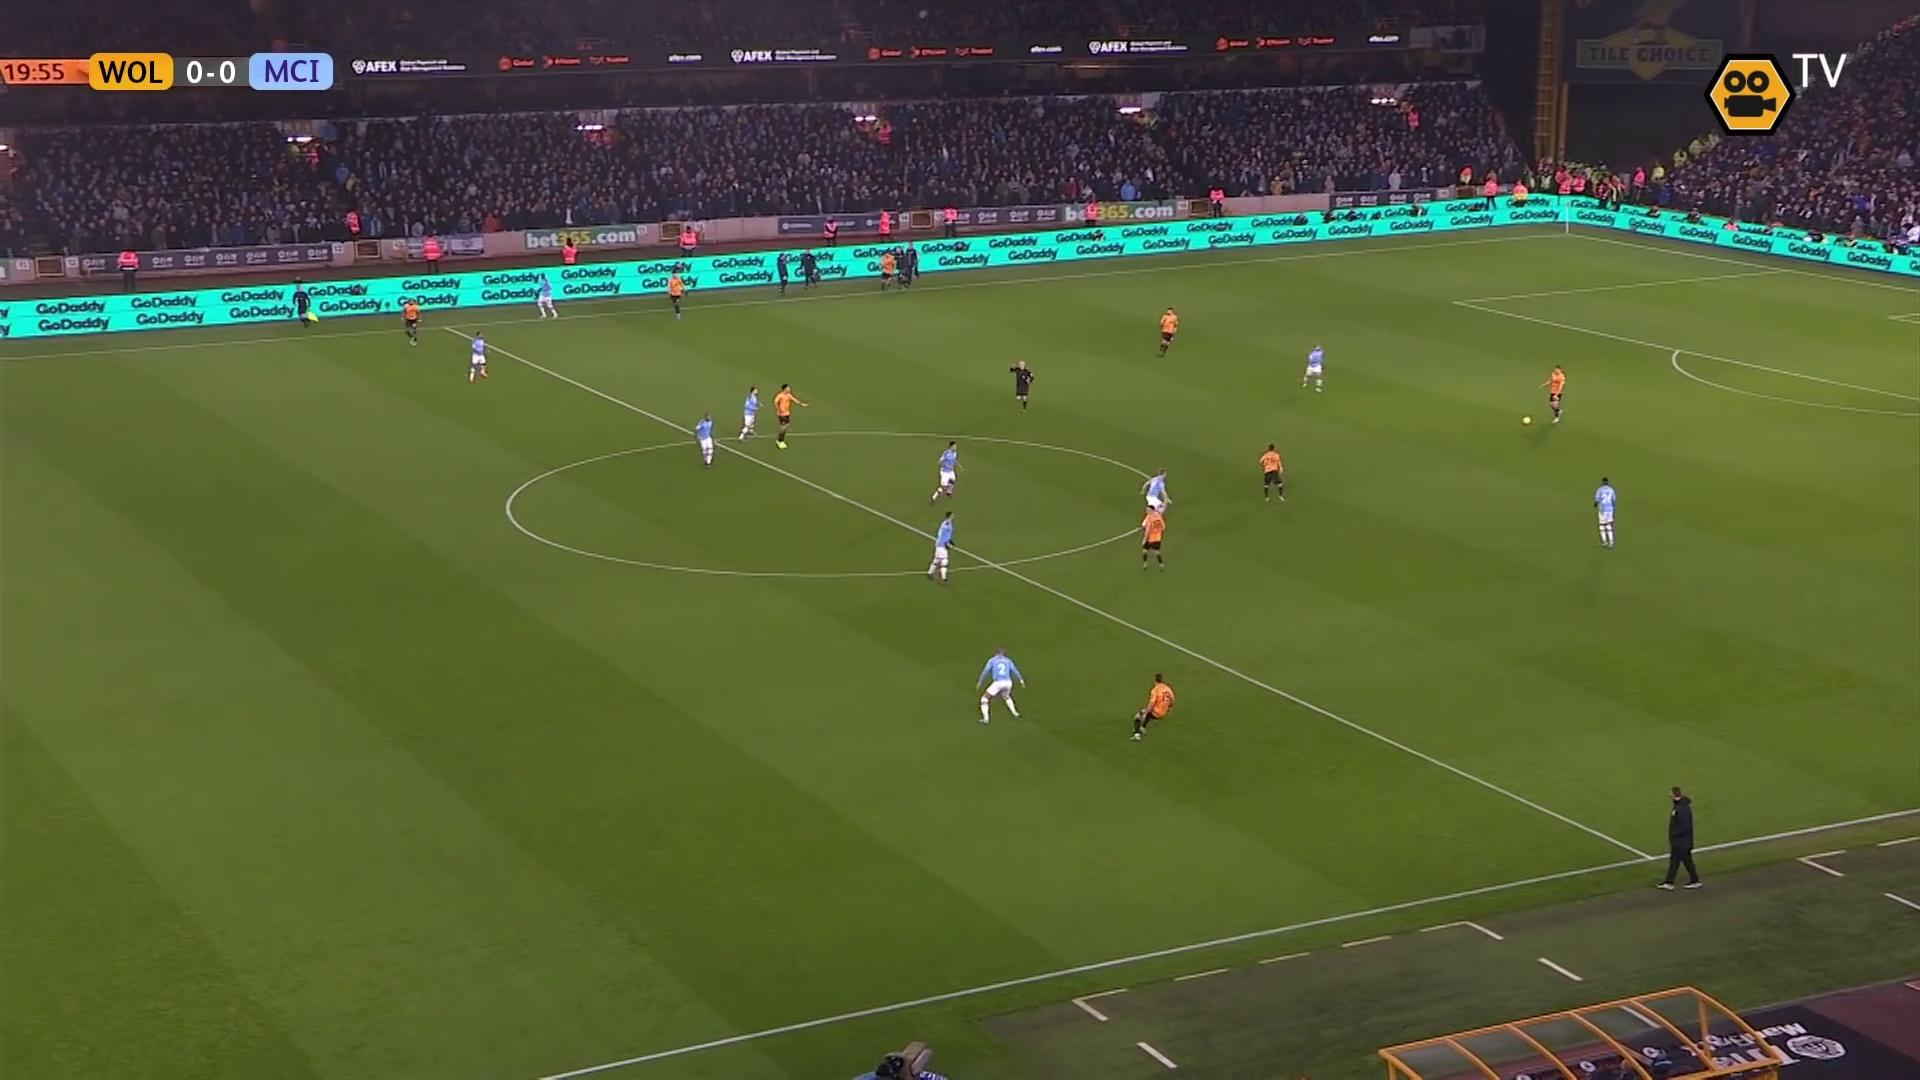ball: (1522, 414, 1533, 428)
